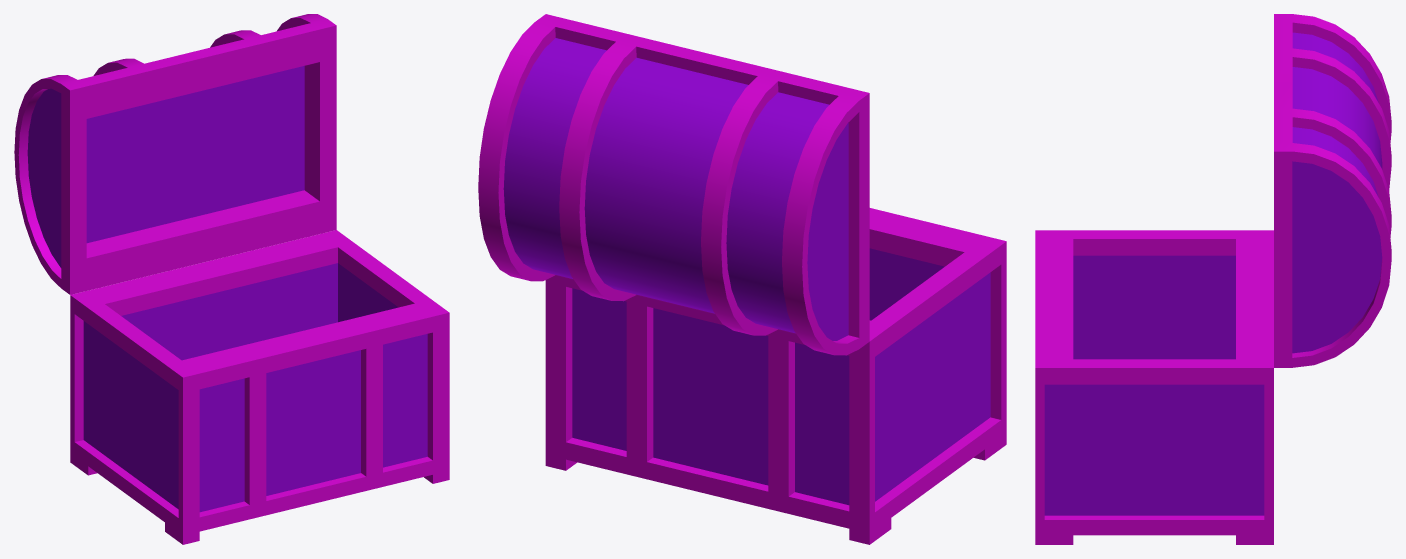
Rendered from chest.fbx.
3 views of the same model, side by side, from view 1: azimuth 30°, elevation 25°; view 2: azimuth 150°, elevation 25°; view 3: azimuth 270°, elevation 25° (orthographic). The views are drawn at different scales.
Parts seen in each view (by area): view 1: Cube; view 2: Cube; view 3: Cube.
Boxes of the visible parts, x1,y1,x2,y2 form: Cube: [14, 14, 449, 544]; Cube: [478, 14, 1006, 544]; Cube: [1035, 14, 1391, 544].
Size of the model in its own units: 300 by 400 by 329.
